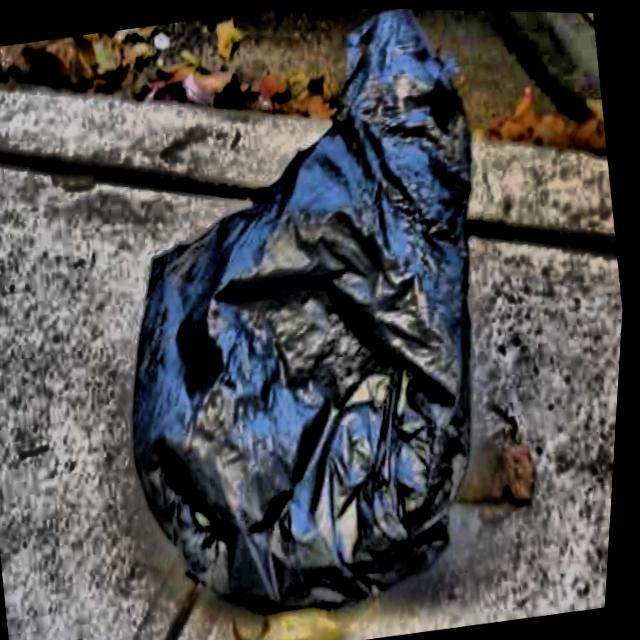Plastic: (69, 2, 566, 640)
